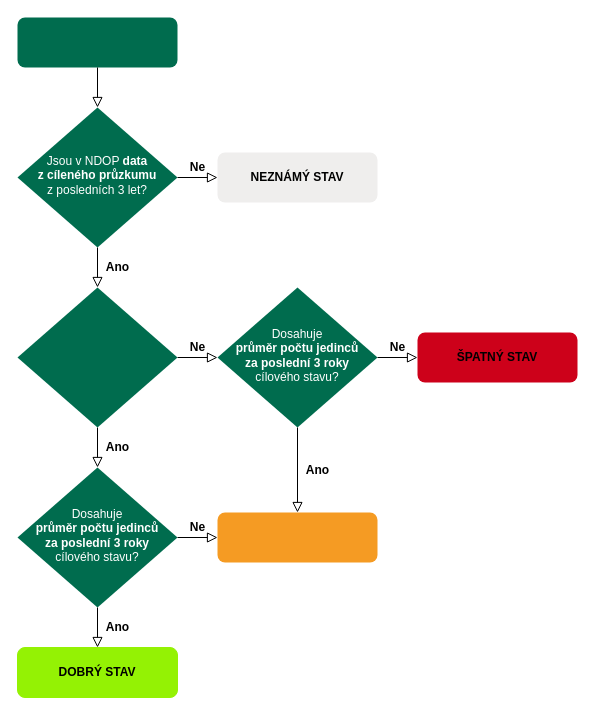
This 595x715 diagram has some shape labels left out. The shapes that lost their labels are listed below. From the top down, each one's centre as x and y in pixels, then its label:
(97,42): Pohled na data v NDOP
(97,357): Je dosažen cílový stav procenta dobře hodnocených lokalit ?
(297,537): ZHORŠENÝ STAV
